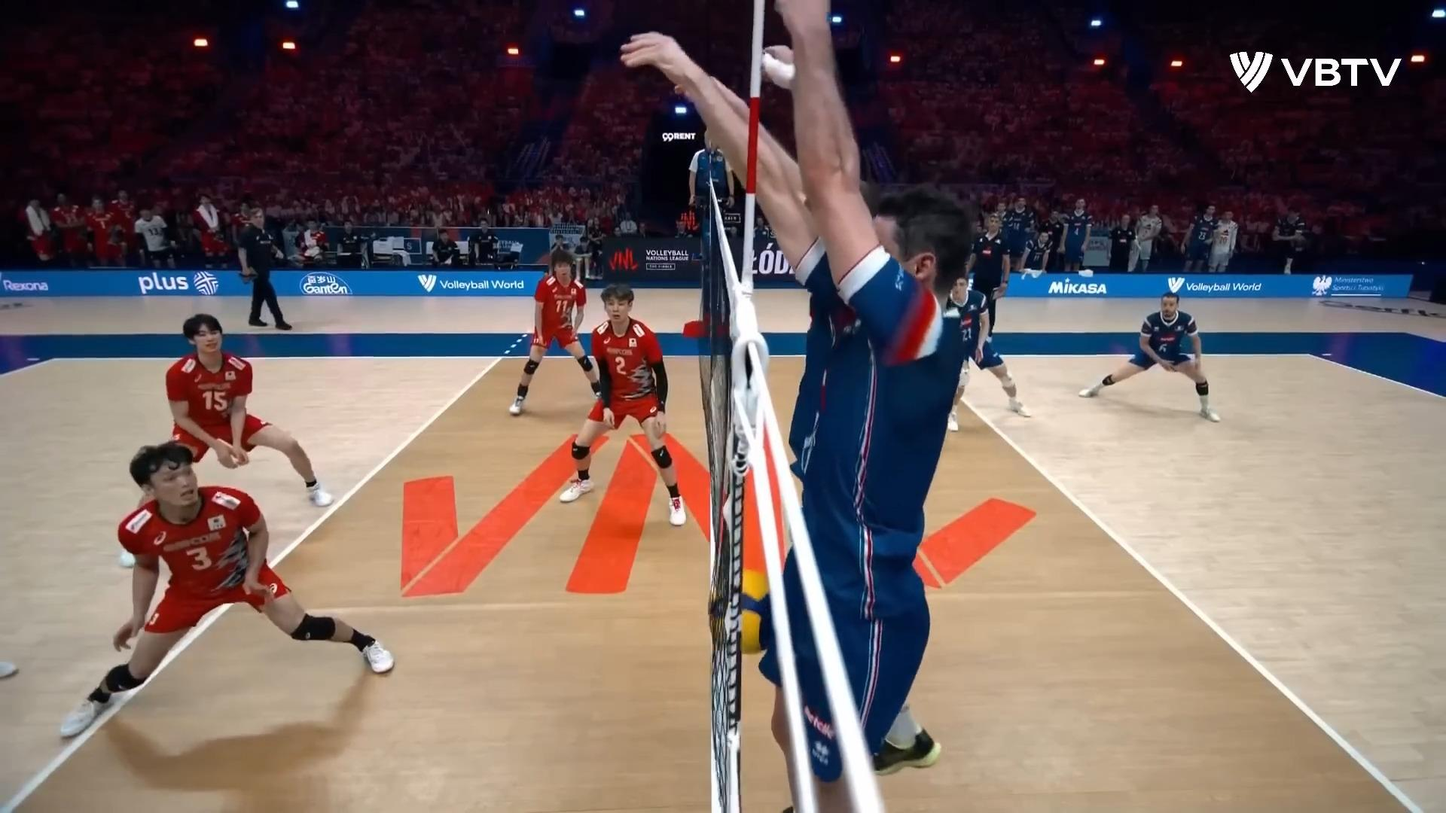ball: (708, 571, 781, 658)
